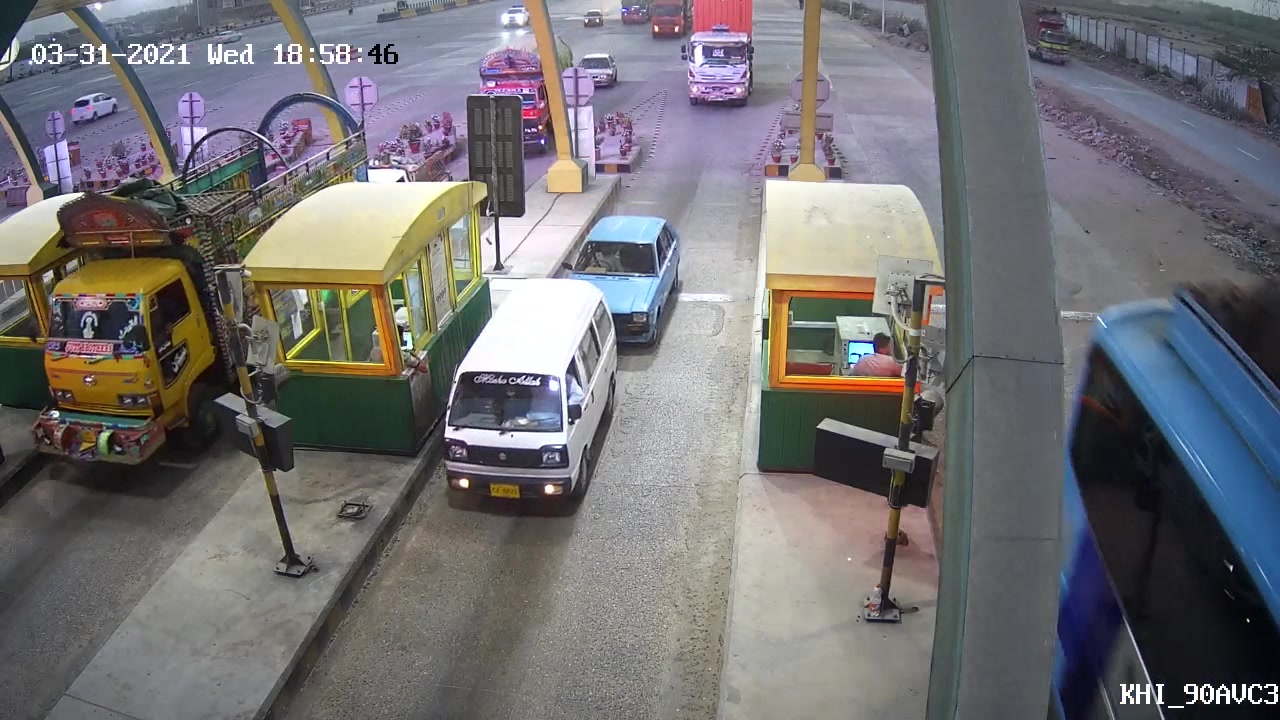F2: (438, 272, 627, 511)
